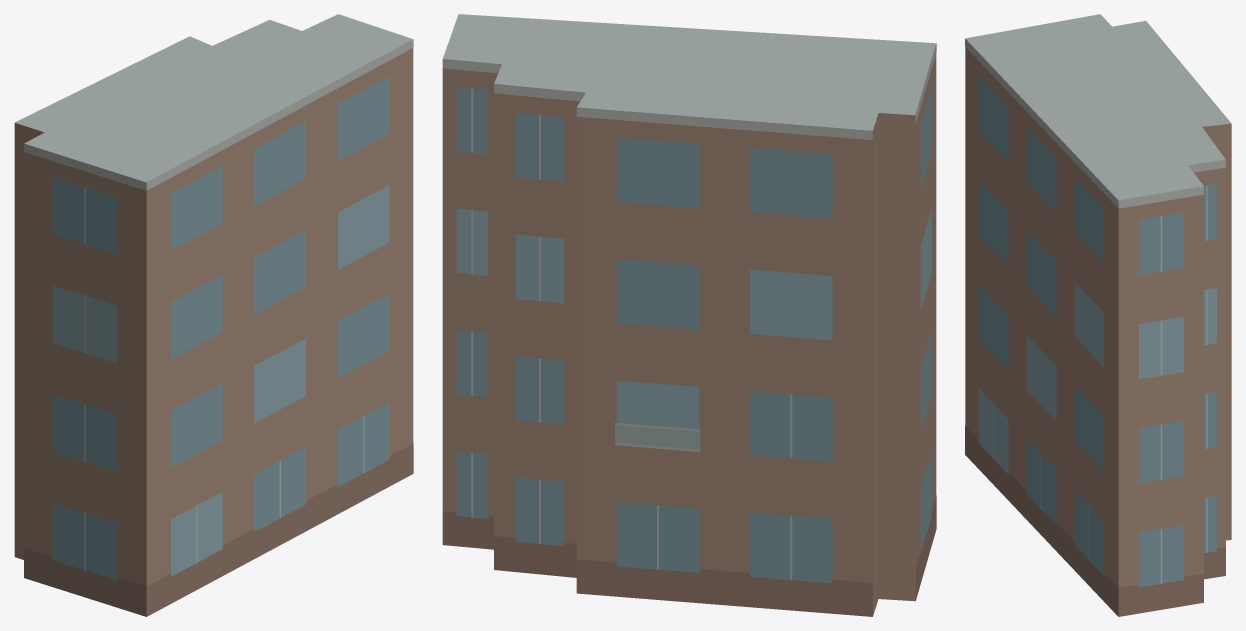
File: survey-upis-32684522.glb
The picture shows the model from 3 angles, left to right: view 1: azimuth 30°, elevation 25°; view 2: azimuth 150°, elevation 25°; view 3: azimuth 270°, elevation 25°; orthographic projection. The views are drawn at different scales.
Parts seen in each view (by area): view 1: survey-upis-32684522.tmp; view 2: survey-upis-32684522.tmp; view 3: survey-upis-32684522.tmp.
Part boxes in pixels (box(x1,y1,x2,y2)): survey-upis-32684522.tmp: box(14, 14, 413, 616); survey-upis-32684522.tmp: box(442, 14, 936, 616); survey-upis-32684522.tmp: box(965, 14, 1231, 616).
Size of the model in its own units: 12.12 by 12.6 by 7.32.
